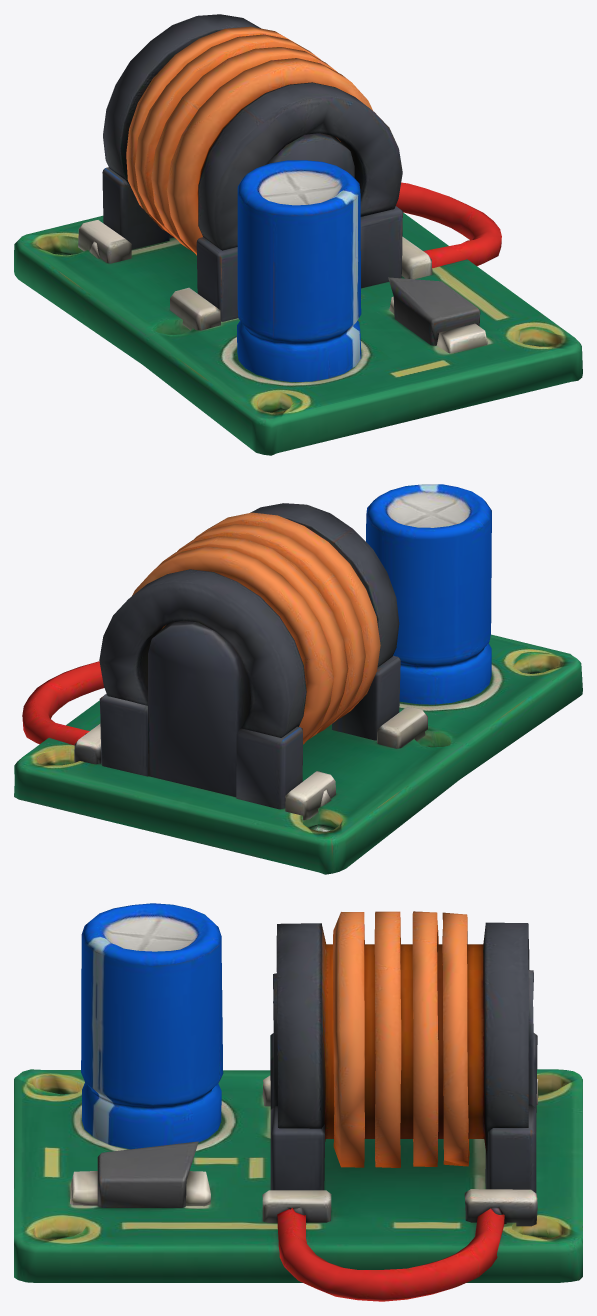
Rendered from electrical-parts.glb.
The picture shows the model from 3 angles, top to bottom: view 1: azimuth 30°, elevation 25°; view 2: azimuth 150°, elevation 25°; view 3: azimuth 270°, elevation 25°; orthographic projection. The views are drawn at different scales.
Parts seen in each view (by area): view 1: electrical-parts; view 2: electrical-parts; view 3: electrical-parts.
Boxes of the visible parts, left/top/right/bottom form: electrical-parts: left=14, top=14, right=582, bottom=455; electrical-parts: left=14, top=484, right=582, bottom=874; electrical-parts: left=14, top=903, right=582, bottom=1301.
Bounding box in the file's own units: 0.1583 × 0.0948 × 0.18.
1 material, 1 textured.
